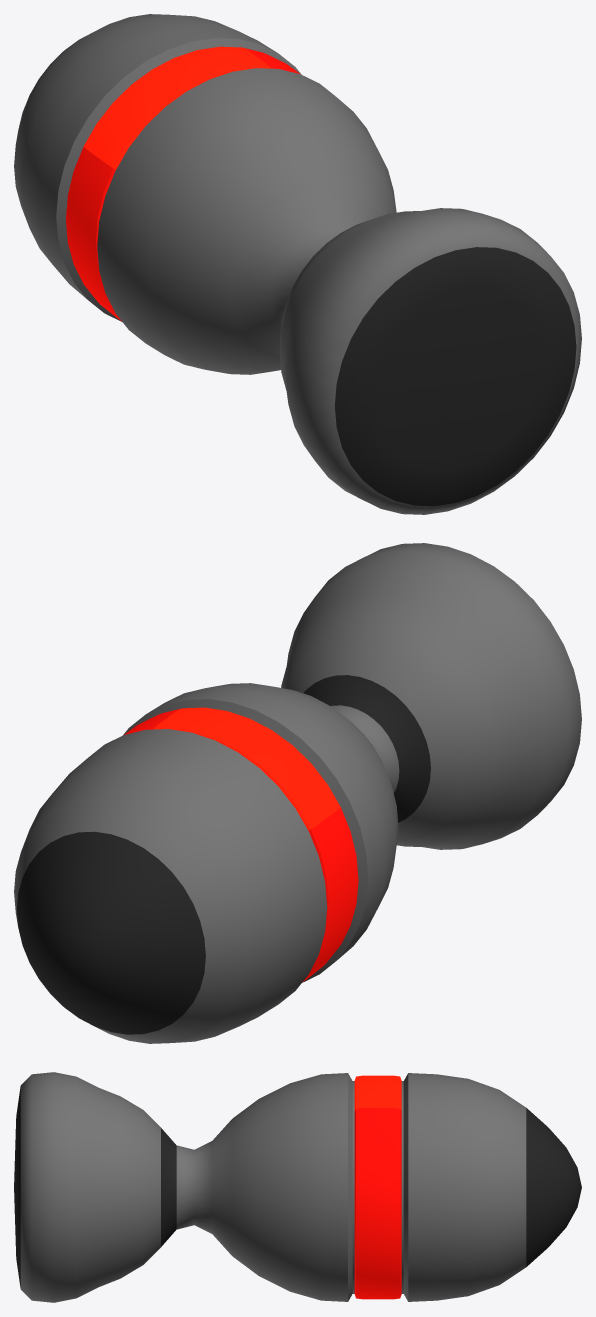
The model's file is visor_post.glb.
3 renders of one model, top to bottom at view 1: azimuth 30°, elevation 25°; view 2: azimuth 150°, elevation 25°; view 3: azimuth 270°, elevation 25°, orthographic. The views are drawn at different scales.
Parts seen in each view (by area): view 1: post, visor; view 2: post, visor; view 3: post, visor.
Part boxes in pixels (x1=…): post: x1=14, y1=14, x2=581, y2=514; visor: x1=66, y1=46, x2=299, y2=321; post: x1=14, y1=543, x2=581, y2=1043; visor: x1=124, y1=707, x2=358, y2=982; post: x1=14, y1=1072, x2=581, y2=1302; visor: x1=354, y1=1075, x2=401, y2=1299.
Bounding box in the file's own units: 5.2 × 5.2 × 12.75.
